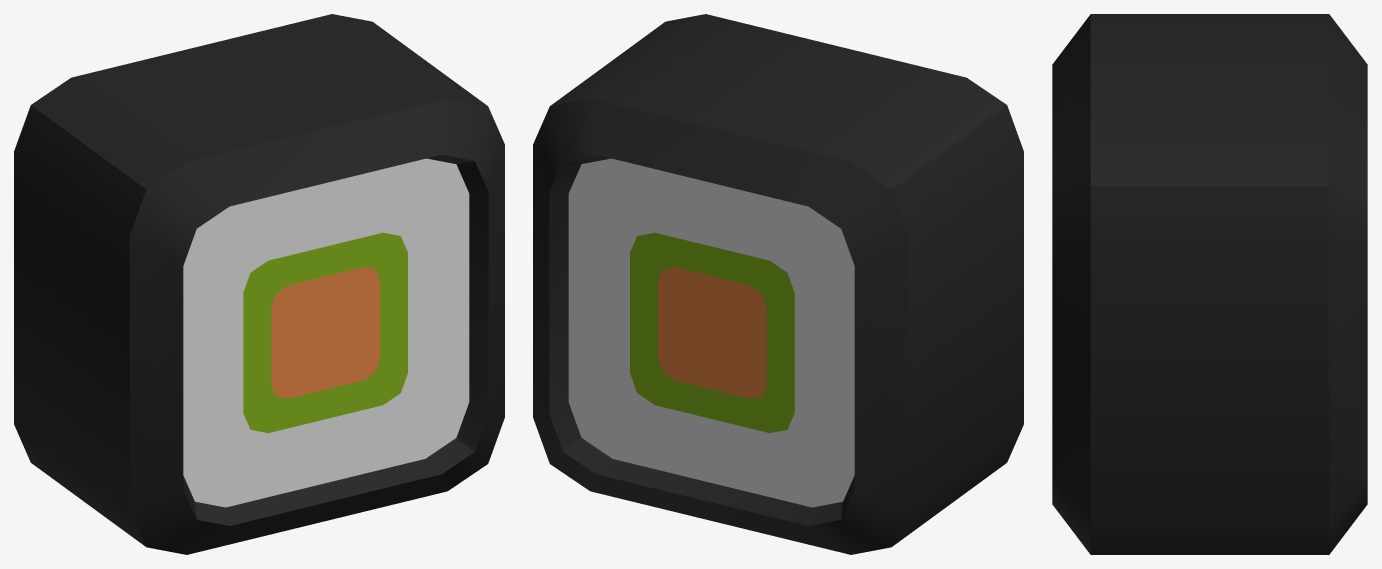
The model's file is Food_Roll.fbx.
3 renders of one model, left to right at view 1: azimuth 30°, elevation 25°; view 2: azimuth 150°, elevation 25°; view 3: azimuth 270°, elevation 25°, orthographic. The views are drawn at different scales.
Parts seen in each view (by area): view 1: Food_Roll; view 2: Food_Roll; view 3: Food_Roll.
Part boxes in pixels (x1,y1,x2,y2): Food_Roll: (14, 14, 504, 554); Food_Roll: (533, 14, 1023, 554); Food_Roll: (1052, 14, 1367, 554).
Size of the model in its own units: 43.33 by 43.33 by 30.54.
